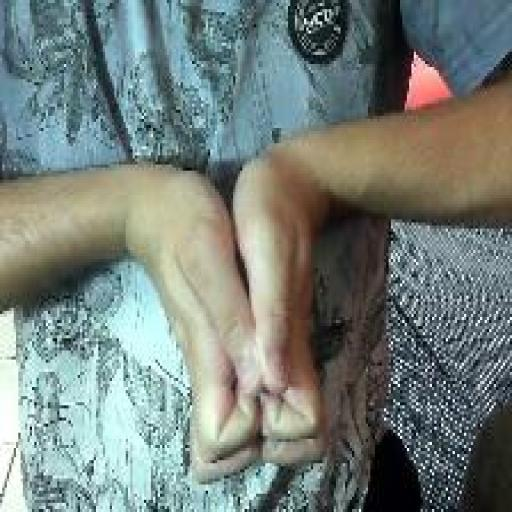I -boar-: (144, 149, 334, 488)
